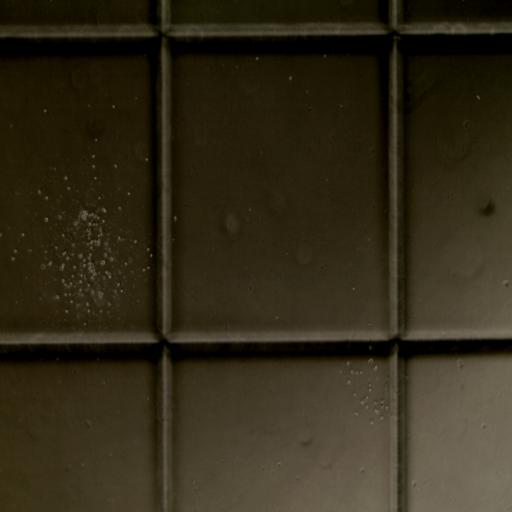CFU-GM: (36, 176, 152, 329)
